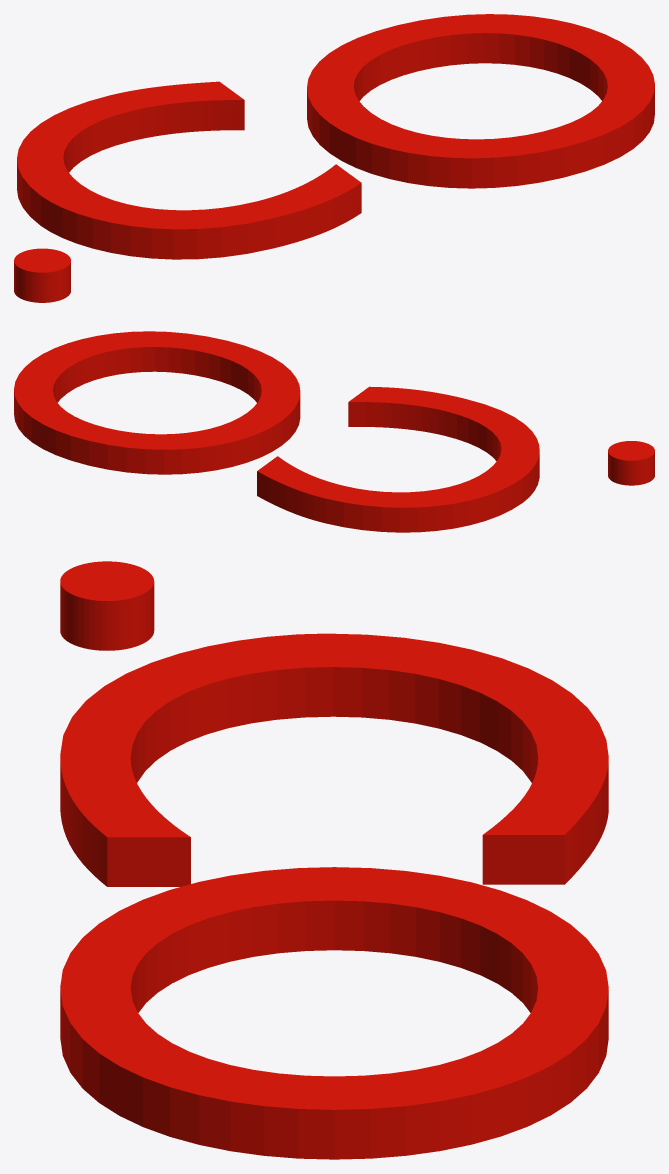
3 views of the same model, one above another, from view 1: azimuth 30°, elevation 25°; view 2: azimuth 150°, elevation 25°; view 3: azimuth 270°, elevation 25° (orthographic). The views are drawn at different scales.
Parts seen in each view (by area): view 1: 文字; view 2: 文字; view 3: 文字.
Part boxes in pixels (x1,y1,x2,y2): 文字: (14,14,654,302); 文字: (14,331,654,532); 文字: (60,561,608,1159).
Size of the model in its own units: 166 by 7 by 70.
